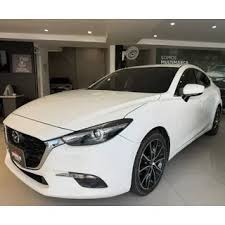car: (8, 64, 225, 196), (19, 67, 220, 197)
